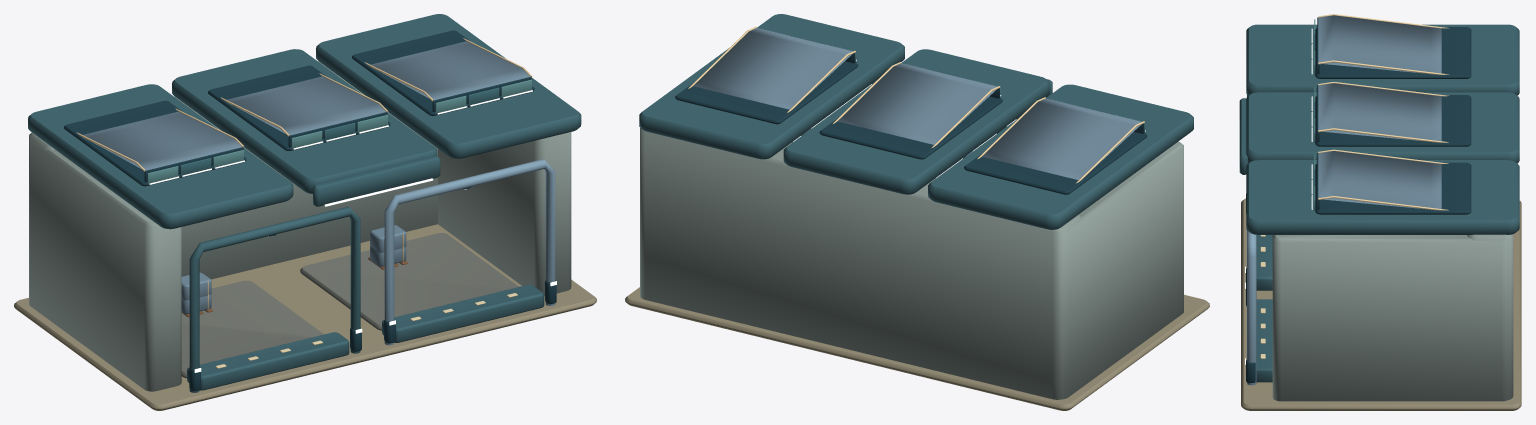
File: harbor_coldstore.glb
3 renders of one model, left to right at view 1: azimuth 30°, elevation 25°; view 2: azimuth 150°, elevation 25°; view 3: azimuth 270°, elevation 25°, orthographic. The views are drawn at different scales.
Visible parts, largest first — view 1: HarborColdstore; view 2: HarborColdstore; view 3: HarborColdstore.
Boxes of the visible parts, bbox=[...] form: HarborColdstore: bbox=[14, 14, 596, 410]; HarborColdstore: bbox=[625, 14, 1209, 410]; HarborColdstore: bbox=[1238, 14, 1521, 410].
Bounding box in the file's own units: 11.88 × 5.34 × 6.78.
